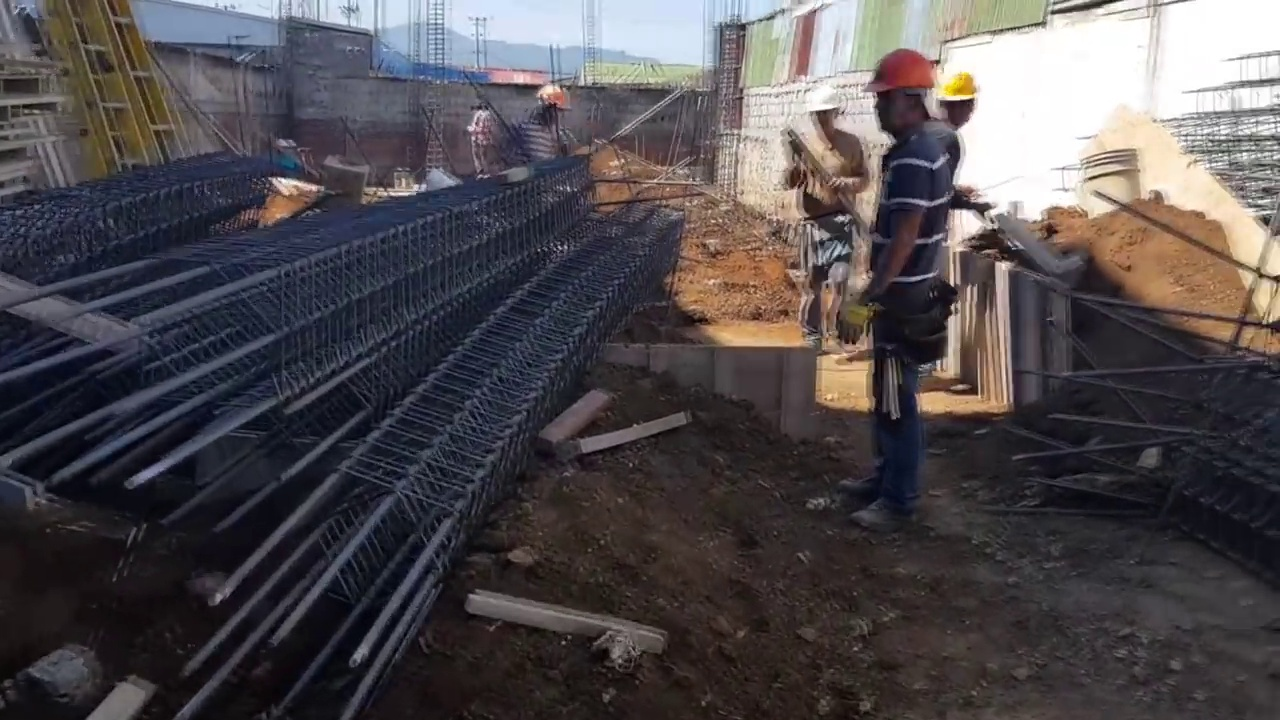helmet: (872, 51, 936, 94), (932, 71, 981, 100), (805, 85, 843, 114), (537, 86, 572, 111)
helmet-off: (469, 98, 486, 115)
helmet-on: (865, 51, 934, 143), (932, 70, 983, 132), (797, 84, 849, 142), (539, 84, 570, 114)
person: (850, 40, 966, 534), (783, 84, 869, 359), (515, 84, 572, 171), (467, 98, 496, 183)
